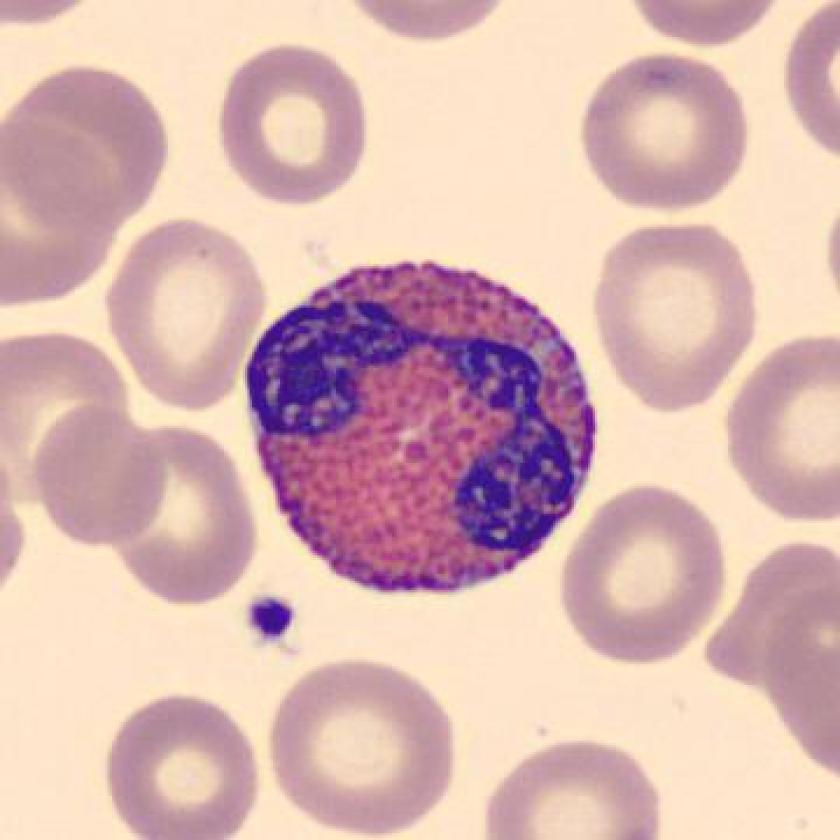eosinophil: (234, 242, 610, 617)
